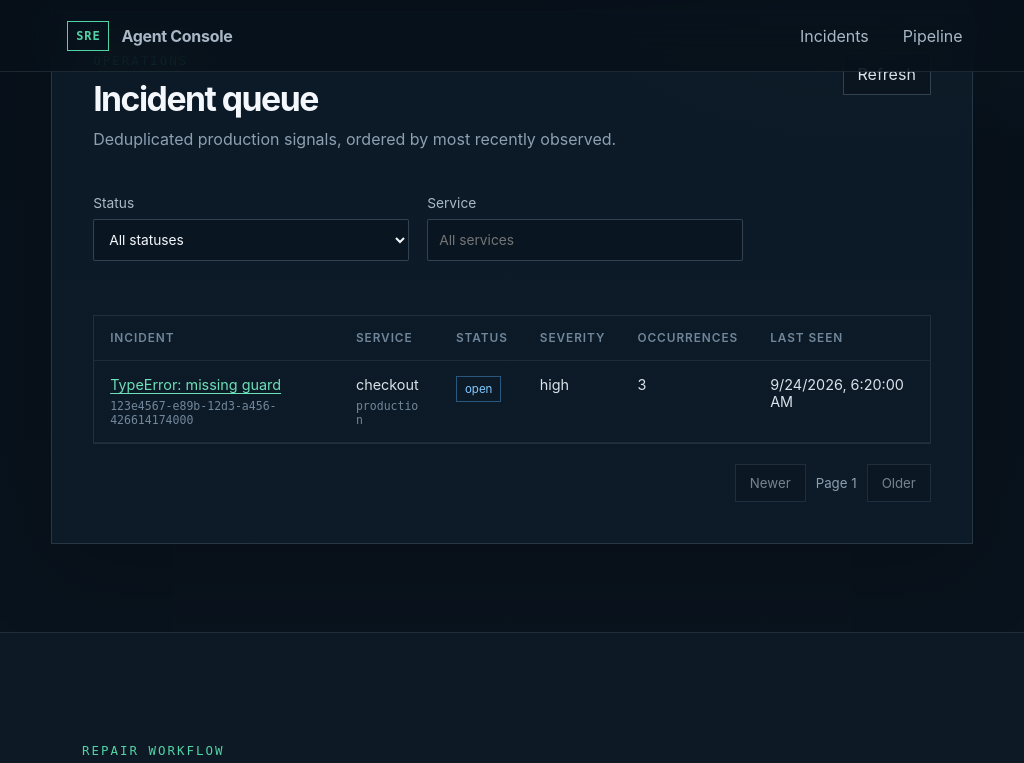
App › shows a bounded validation response when a repair request is rejected
(page scrolled)
Click the button "TypeError: missing guard" at (196, 385), box x1=110 y1=376 x2=281 y2=393
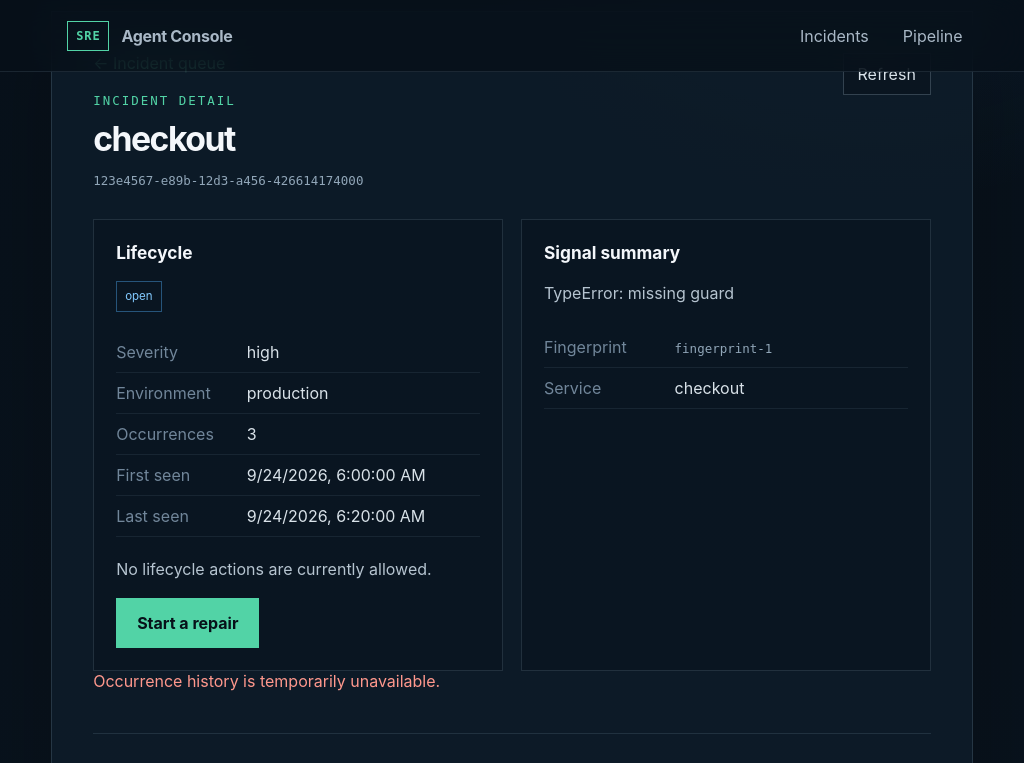
Click the button "Start a repair" at (188, 623), box x1=116 y1=598 x2=259 y2=648
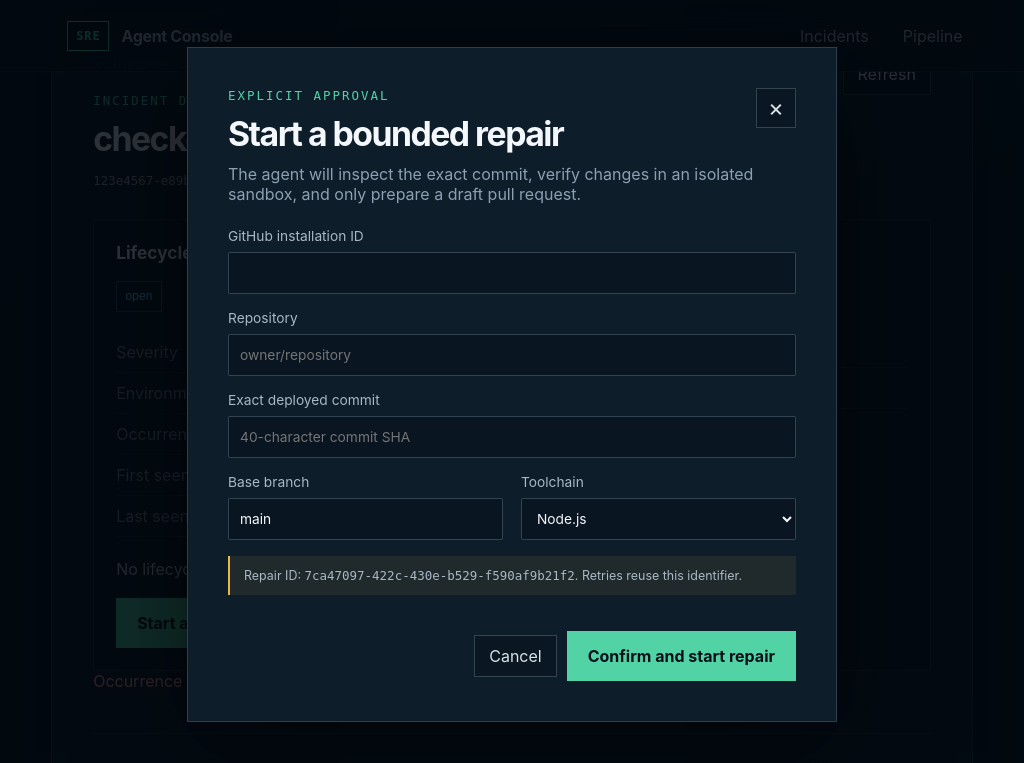
Type "42" into the number field labelled "GitHub installation ID" at (512, 272), box x1=228 y1=252 x2=796 y2=294
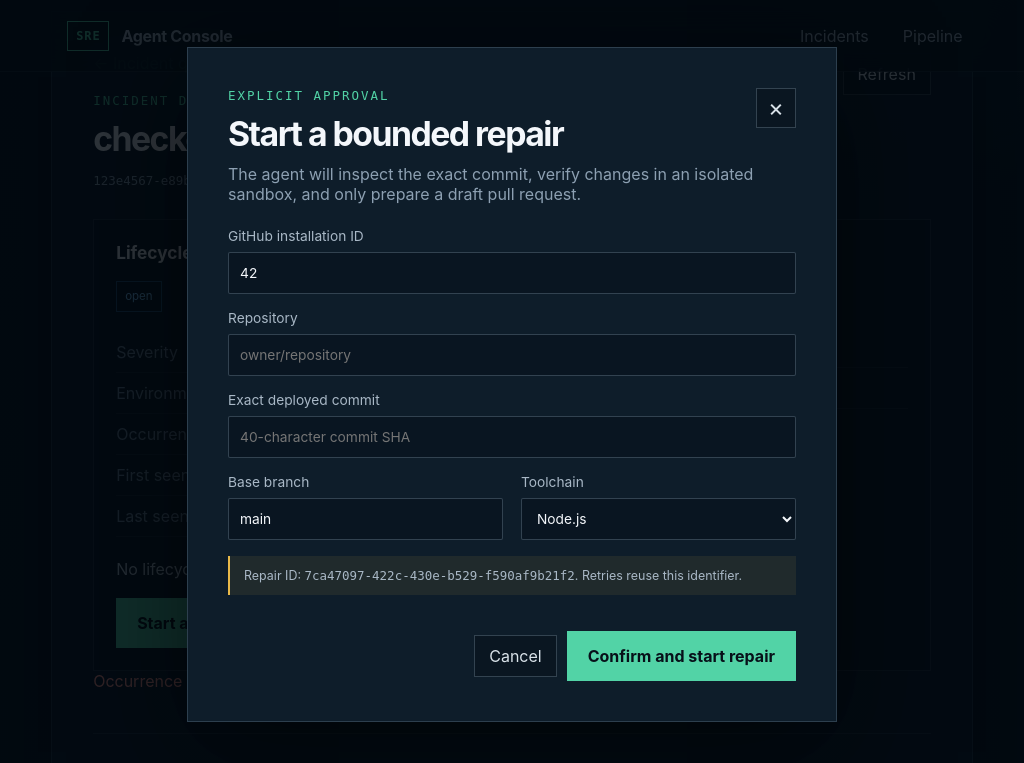
Type "example/service" into the field labelled "Repository" at (512, 354), box x1=228 y1=334 x2=796 y2=376
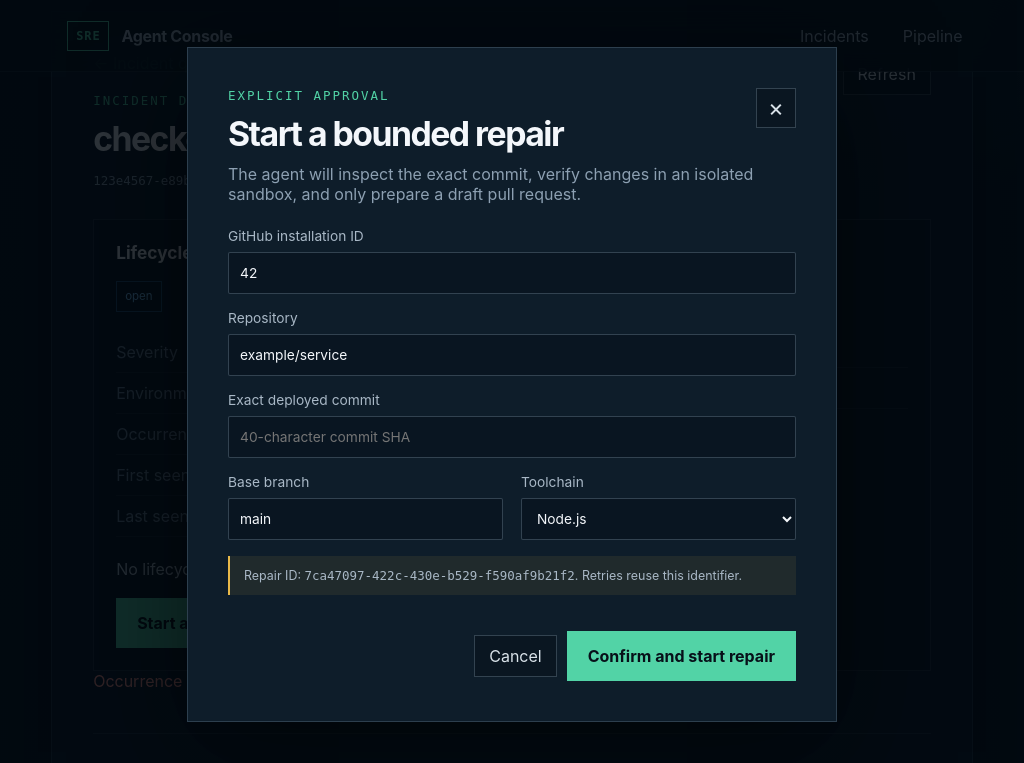
Type "abcdef1234567" into the field labelled "Exact deployed commit" at (512, 436), box x1=228 y1=416 x2=796 y2=458
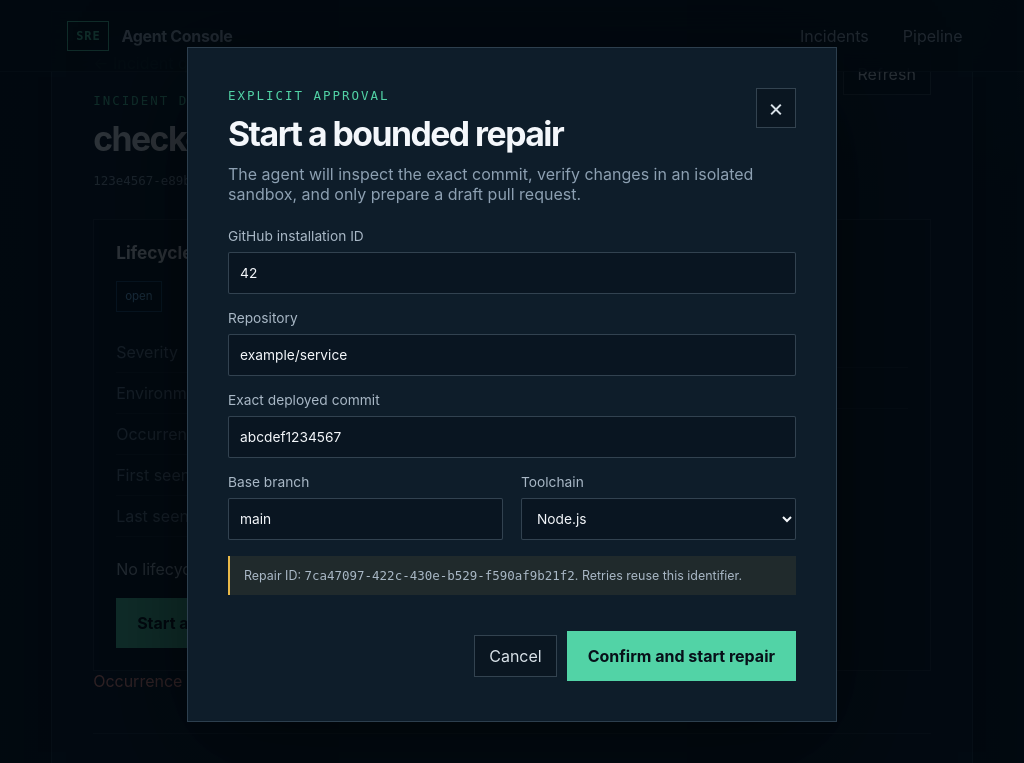
Click the button "Confirm and start repair" at (681, 656), box x1=567 y1=630 x2=796 y2=680
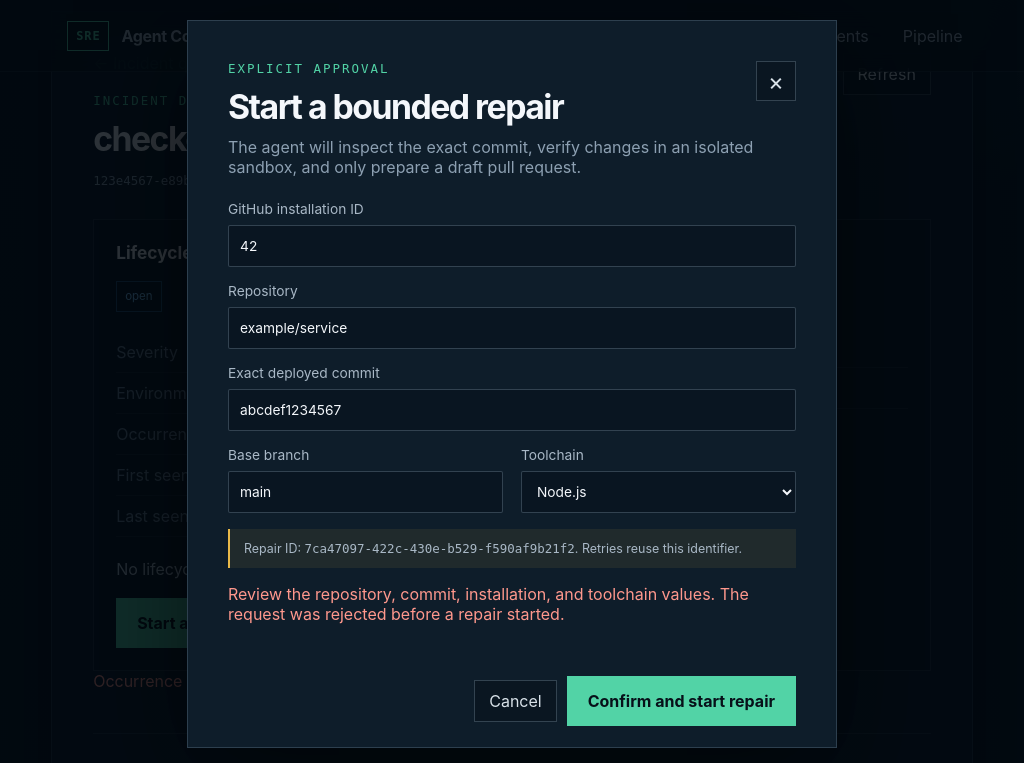
Result: the text "request was rejected before a repair started" is shown at x1=228 y1=584 x2=749 y2=624
